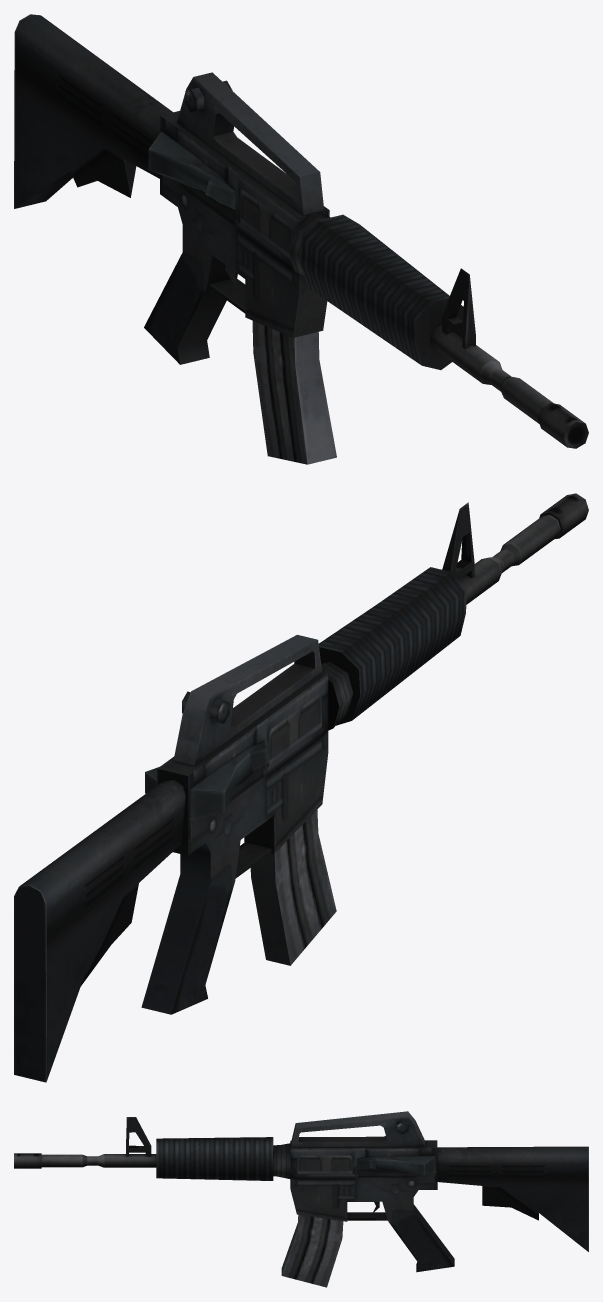
3 renders of one model, top to bottom at view 1: azimuth 30°, elevation 25°; view 2: azimuth 150°, elevation 25°; view 3: azimuth 270°, elevation 25°, orthographic. The views are drawn at different scales.
Size of the model in its own units: 3.15 by 12.23 by 37.34.
Materials: 1 (1 with a texture image).
